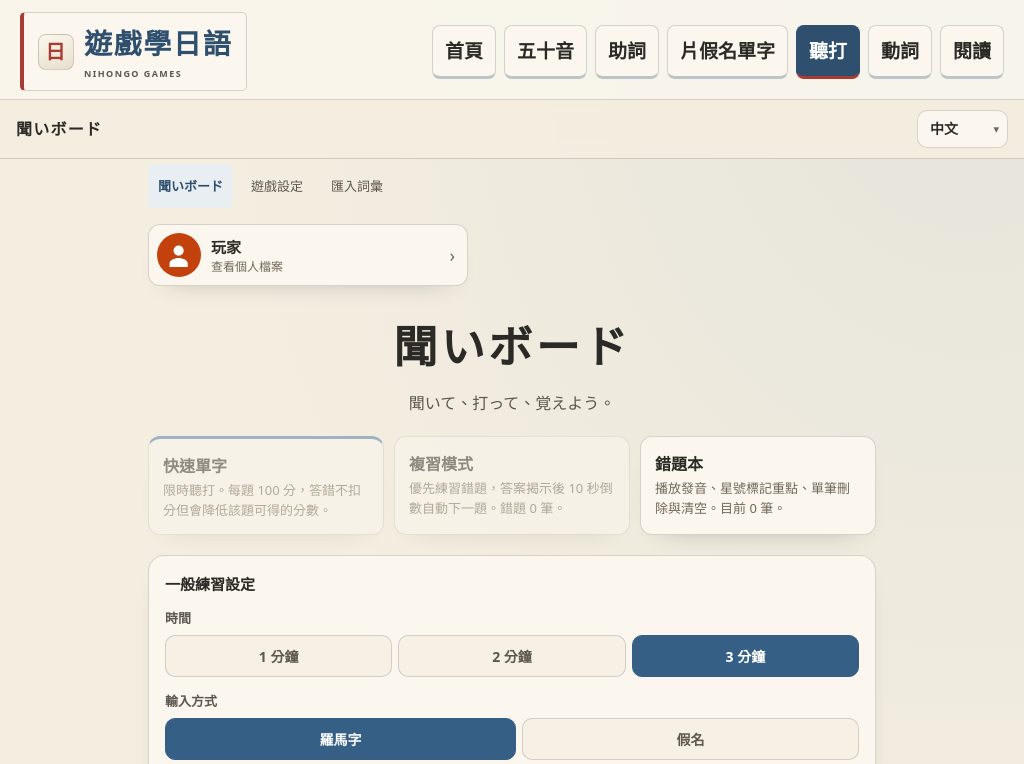
Test: merged site navigation › opens settings and import while preserving language selection and game back navigation
This screenshot has width=1024, height=764.
Click the link to "#/settings": (277, 186) [251,177,303,195]
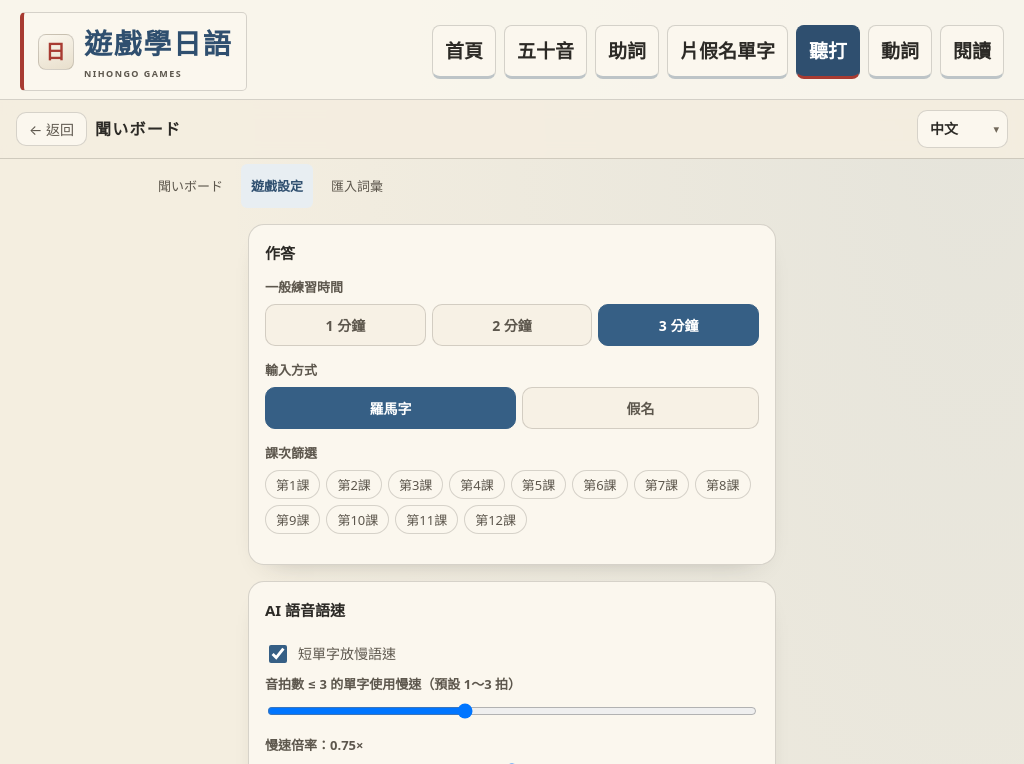
Expected: the link to "#/settings" reads "遊戲設定", [241,164,313,208]
Expected: the dropdown with class "lang-switch__select" is shown, [917,110,1008,148]
Click the link to "#/import": (357, 186) [331,177,383,195]
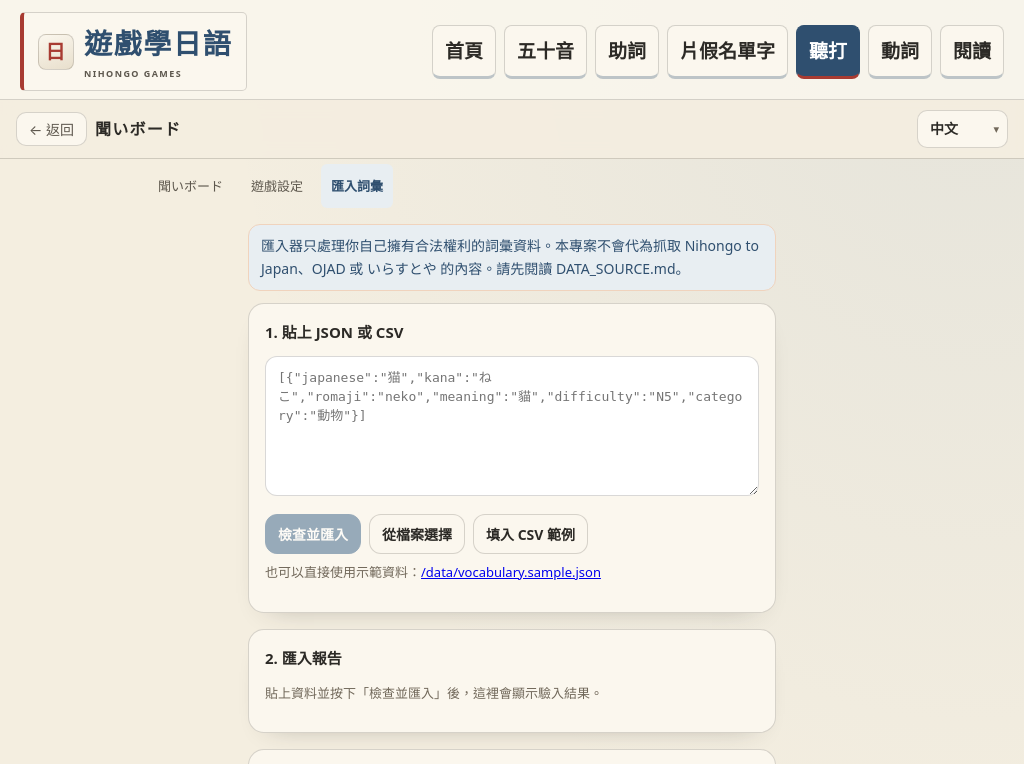
Result: the text "1. 貼上 JSON 或 CSV" is shown at [265,322,403,342]
Click the button with class "topbar__back": (52, 129) [16,112,87,146]
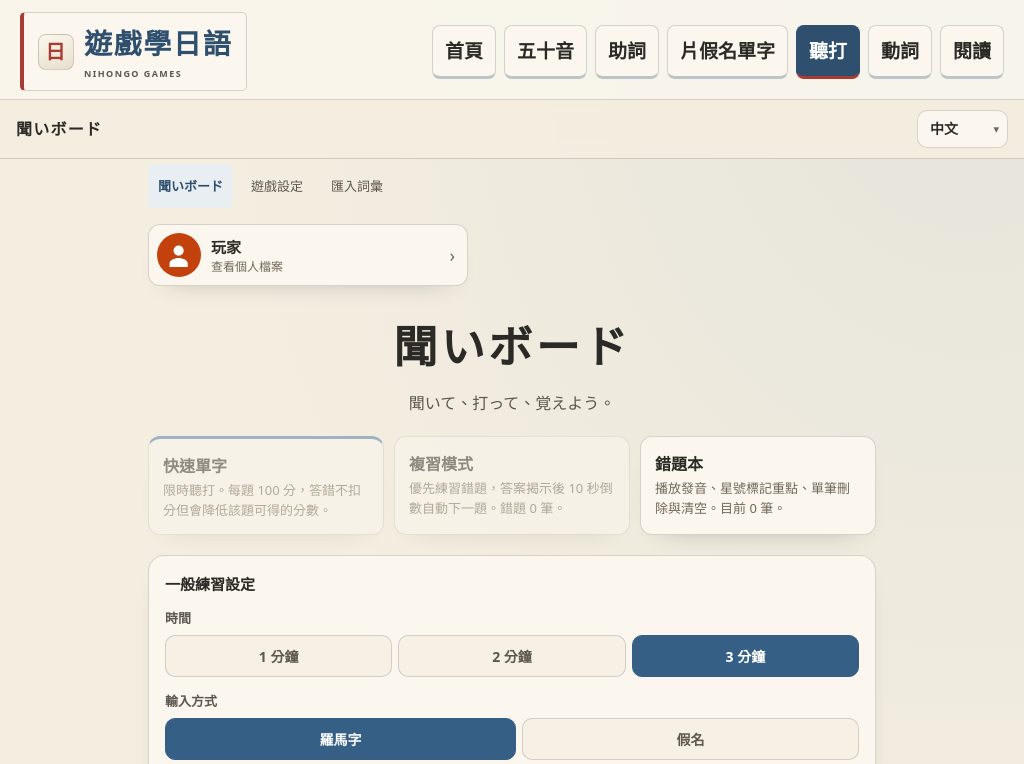
Expected: the heading with class "topbar__title" reads "聞いボード", [16,121,102,138]
Result: the button with class "topbar__back" is gone
